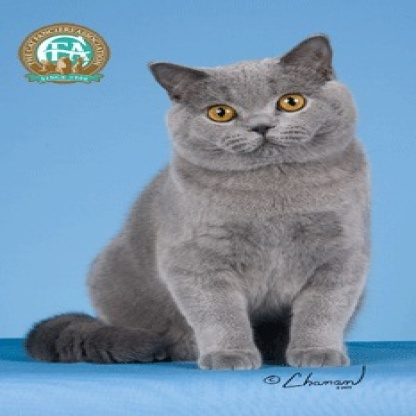british_shorthair: (26, 33, 370, 369)
